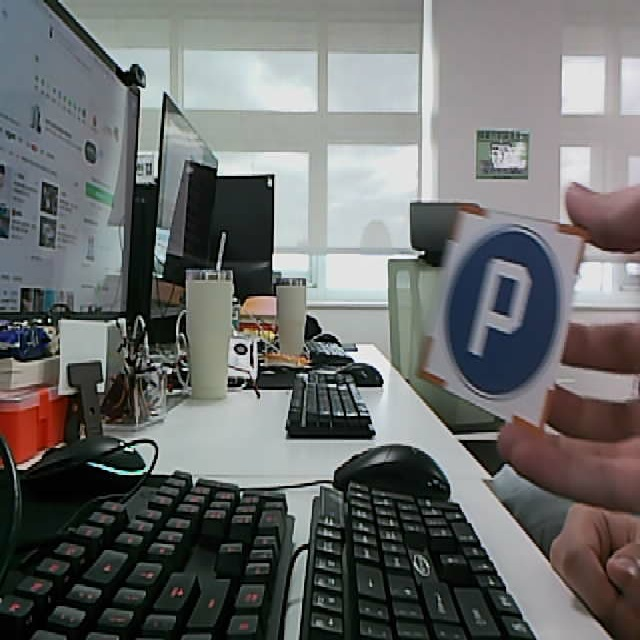parking: (417, 204, 590, 433)
